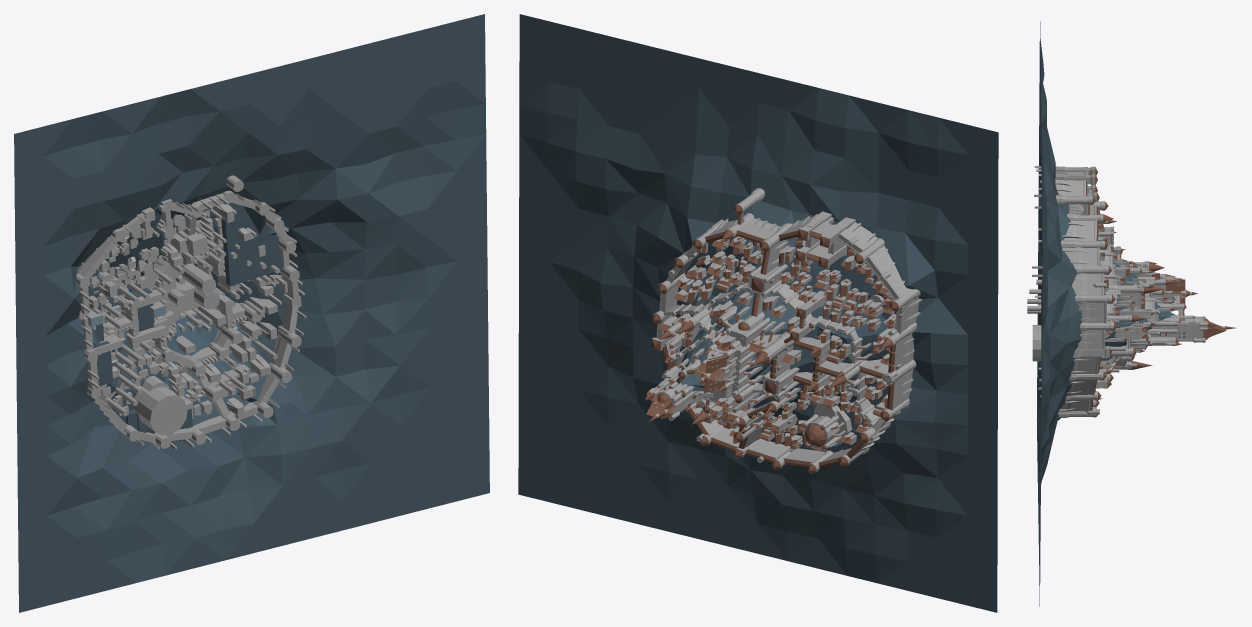
File: castle.fbx
3 views of the same model, side by side, from view 1: azimuth 30°, elevation 25°; view 2: azimuth 150°, elevation 25°; view 3: azimuth 270°, elevation 25° (orthographic). The views are drawn at different scales.
Parts seen in each view (by area): view 1: group1084782; view 2: group1084782; view 3: group1084782.
Boxes of the visible parts, x1,y1,x2,y2 form: group1084782: (14,14,489,612); group1084782: (518,14,998,612); group1084782: (1027,21,1235,606).
Size of the model in its own units: 264 by 255 by 119.
